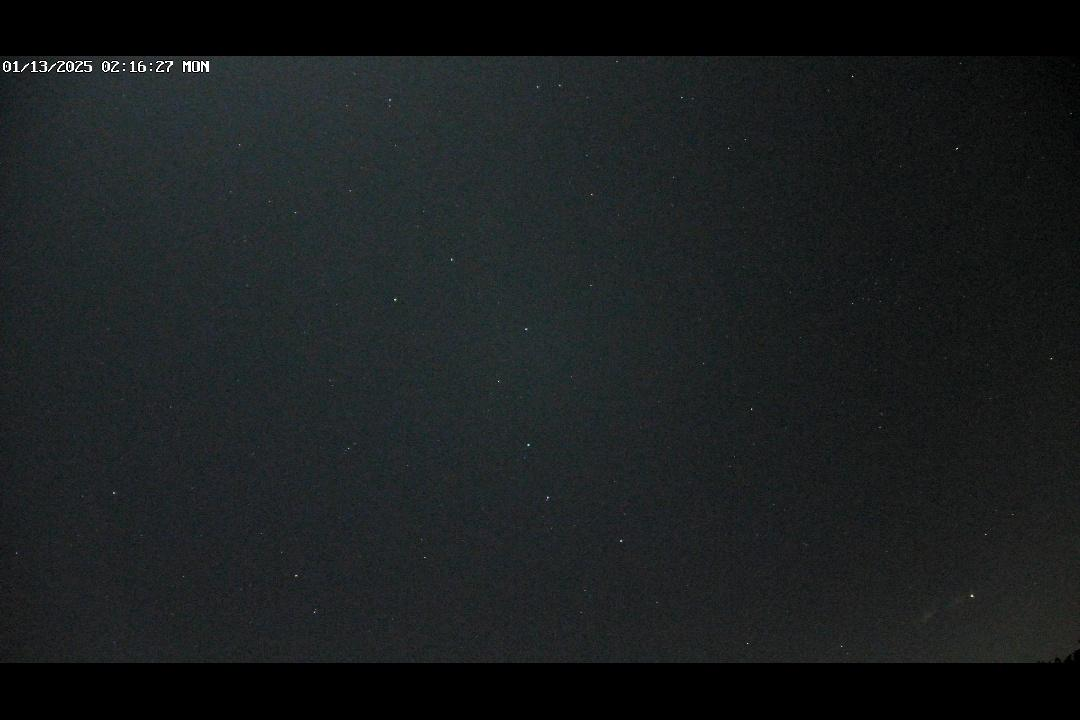Plane: (913, 585, 987, 618)
